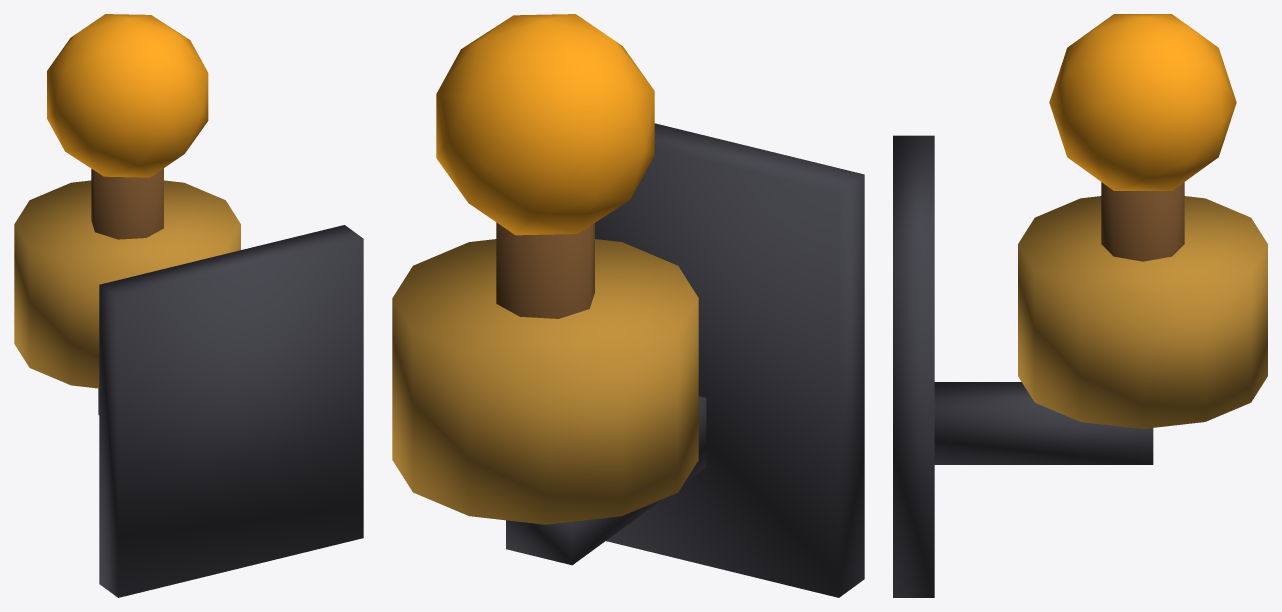
The model's file is dungeon_torch_bracket.obj.
The picture shows the model from 3 angles, left to right: view 1: azimuth 30°, elevation 25°; view 2: azimuth 150°, elevation 25°; view 3: azimuth 270°, elevation 25°; orthographic projection. The views are drawn at different scales.
Parts seen in each view (by area): view 1: dungeon_torch_bracket; view 2: dungeon_torch_bracket; view 3: dungeon_torch_bracket.
Boxes of the visible parts, x1,y1,x2,y2 form: dungeon_torch_bracket: (14,14,363,597); dungeon_torch_bracket: (392,14,864,597); dungeon_torch_bracket: (893,14,1267,597).
Size of the model in its own units: 0.3 by 0.545 by 0.36.
